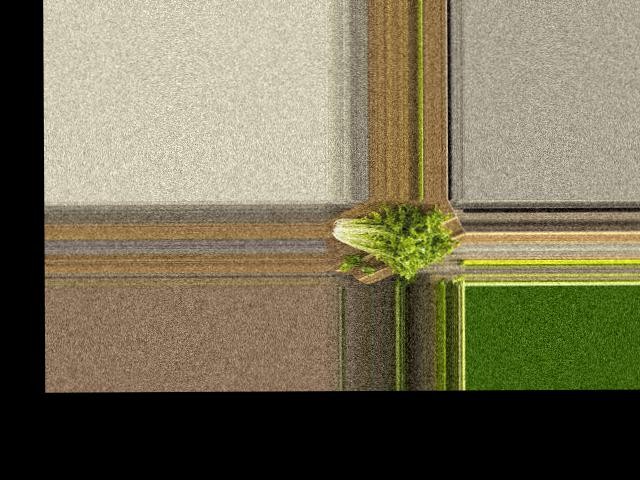lettuce: (325, 203, 453, 278)
